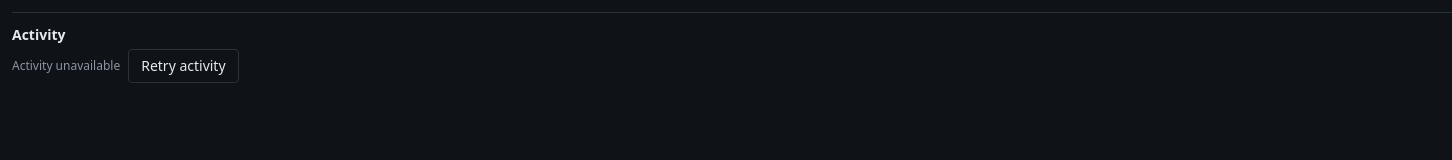
Test case: EventTimeline › shows an error with Retry and recovers
The image size is (1452, 160).
What coordinates should you click on to do the following:
click the button "Retry activity"
I would click on:
 (183, 66)
Its box is [128,49,239,83].
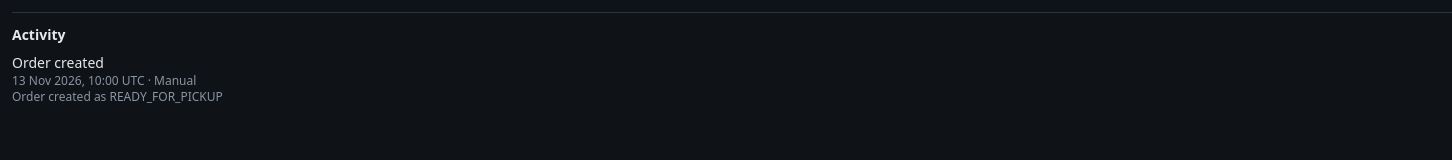
Expected: the list item shows "Order created", [12,53,104,72]
